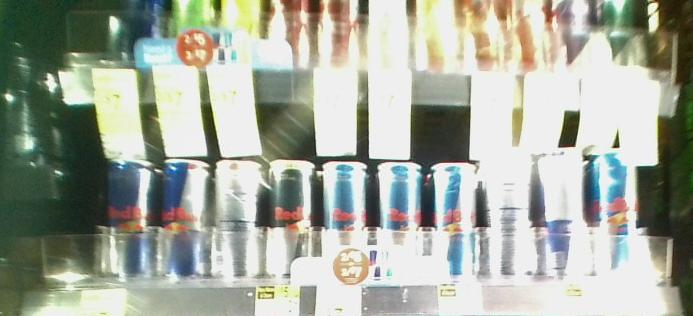bottle: (316, 146, 373, 285), (105, 151, 158, 284), (589, 148, 641, 282), (486, 145, 538, 278), (375, 155, 428, 283), (264, 148, 311, 283), (213, 154, 260, 288), (433, 153, 480, 285), (163, 155, 206, 285), (542, 146, 584, 278)
